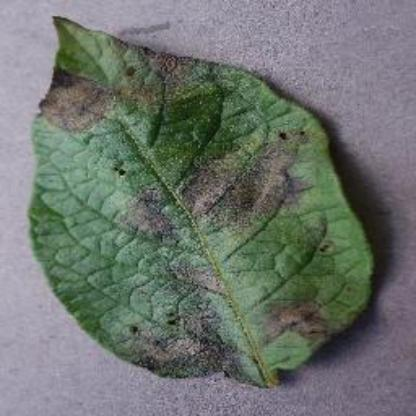Late-Blight: (18, 8, 386, 372)
